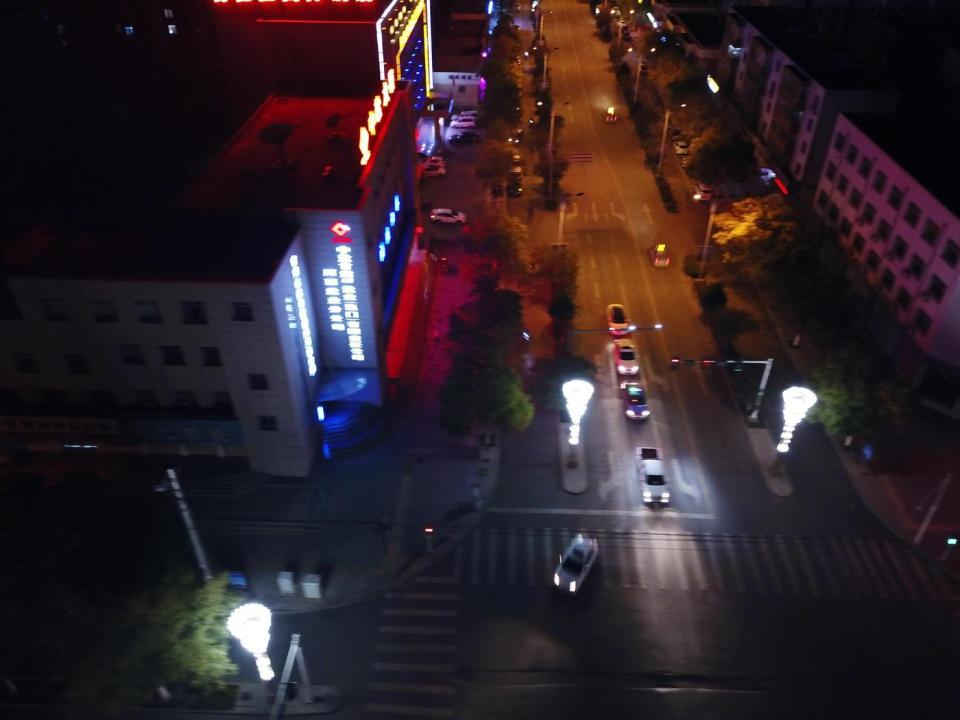bus: (508, 166, 521, 182), (509, 154, 520, 168)
car: (554, 531, 598, 593), (638, 447, 670, 505), (625, 380, 650, 420), (153, 459, 178, 492), (615, 339, 638, 374), (606, 304, 629, 335), (431, 208, 467, 225), (649, 244, 670, 266), (520, 353, 538, 375), (418, 164, 446, 177), (450, 111, 478, 123), (449, 132, 479, 143), (450, 117, 478, 128), (418, 156, 443, 168), (508, 181, 523, 199), (514, 324, 529, 340), (508, 128, 522, 144), (674, 141, 689, 154), (682, 157, 697, 170), (604, 107, 617, 121), (670, 125, 682, 138), (667, 57, 680, 69), (440, 256, 448, 273), (510, 87, 521, 98), (511, 106, 520, 118), (432, 328, 440, 341), (511, 51, 520, 62), (623, 29, 631, 40), (616, 20, 627, 27), (612, 6, 620, 15), (512, 25, 520, 32), (514, 2, 520, 11)
van: (748, 167, 775, 184), (695, 181, 713, 201), (640, 58, 649, 74)
